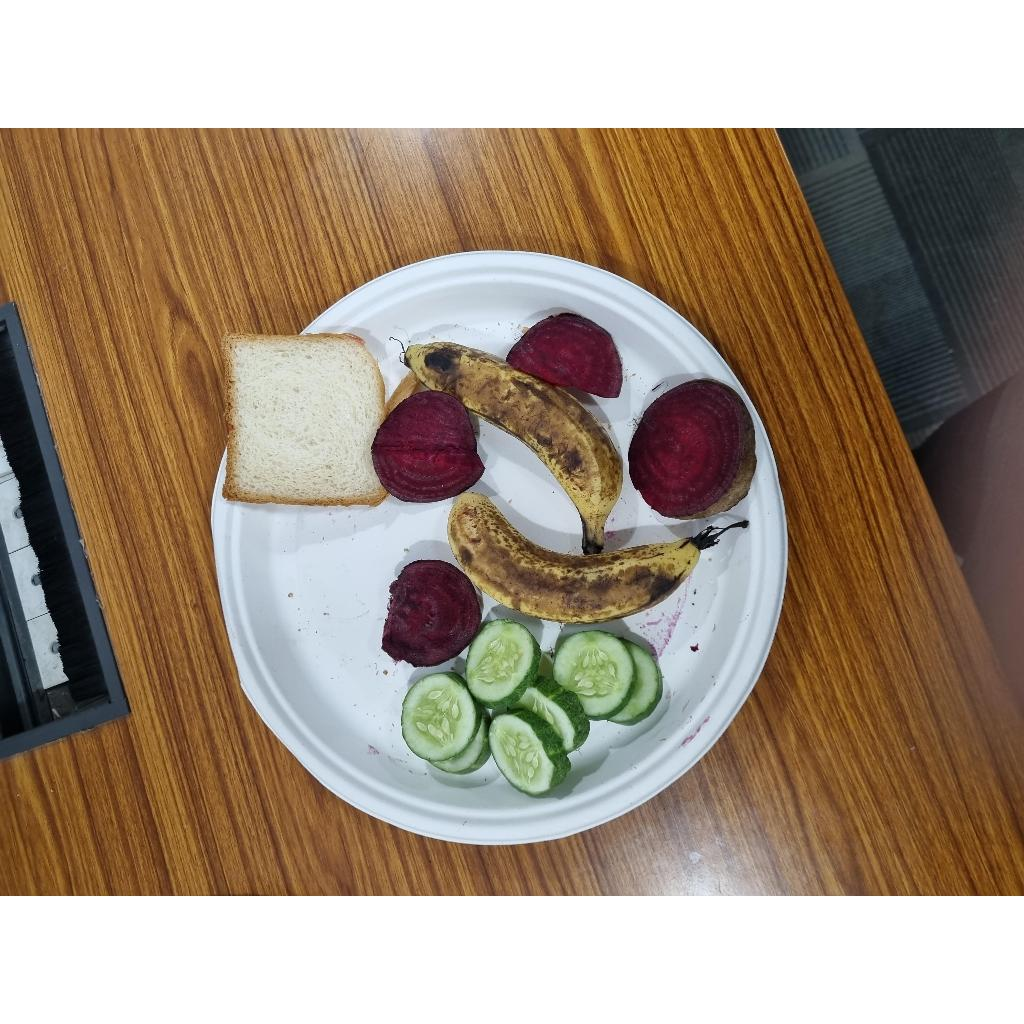banana: (405, 342, 623, 547), (448, 492, 699, 623)
cucumber: (401, 672, 482, 762), (552, 631, 635, 718), (465, 620, 541, 704), (490, 714, 555, 795)
